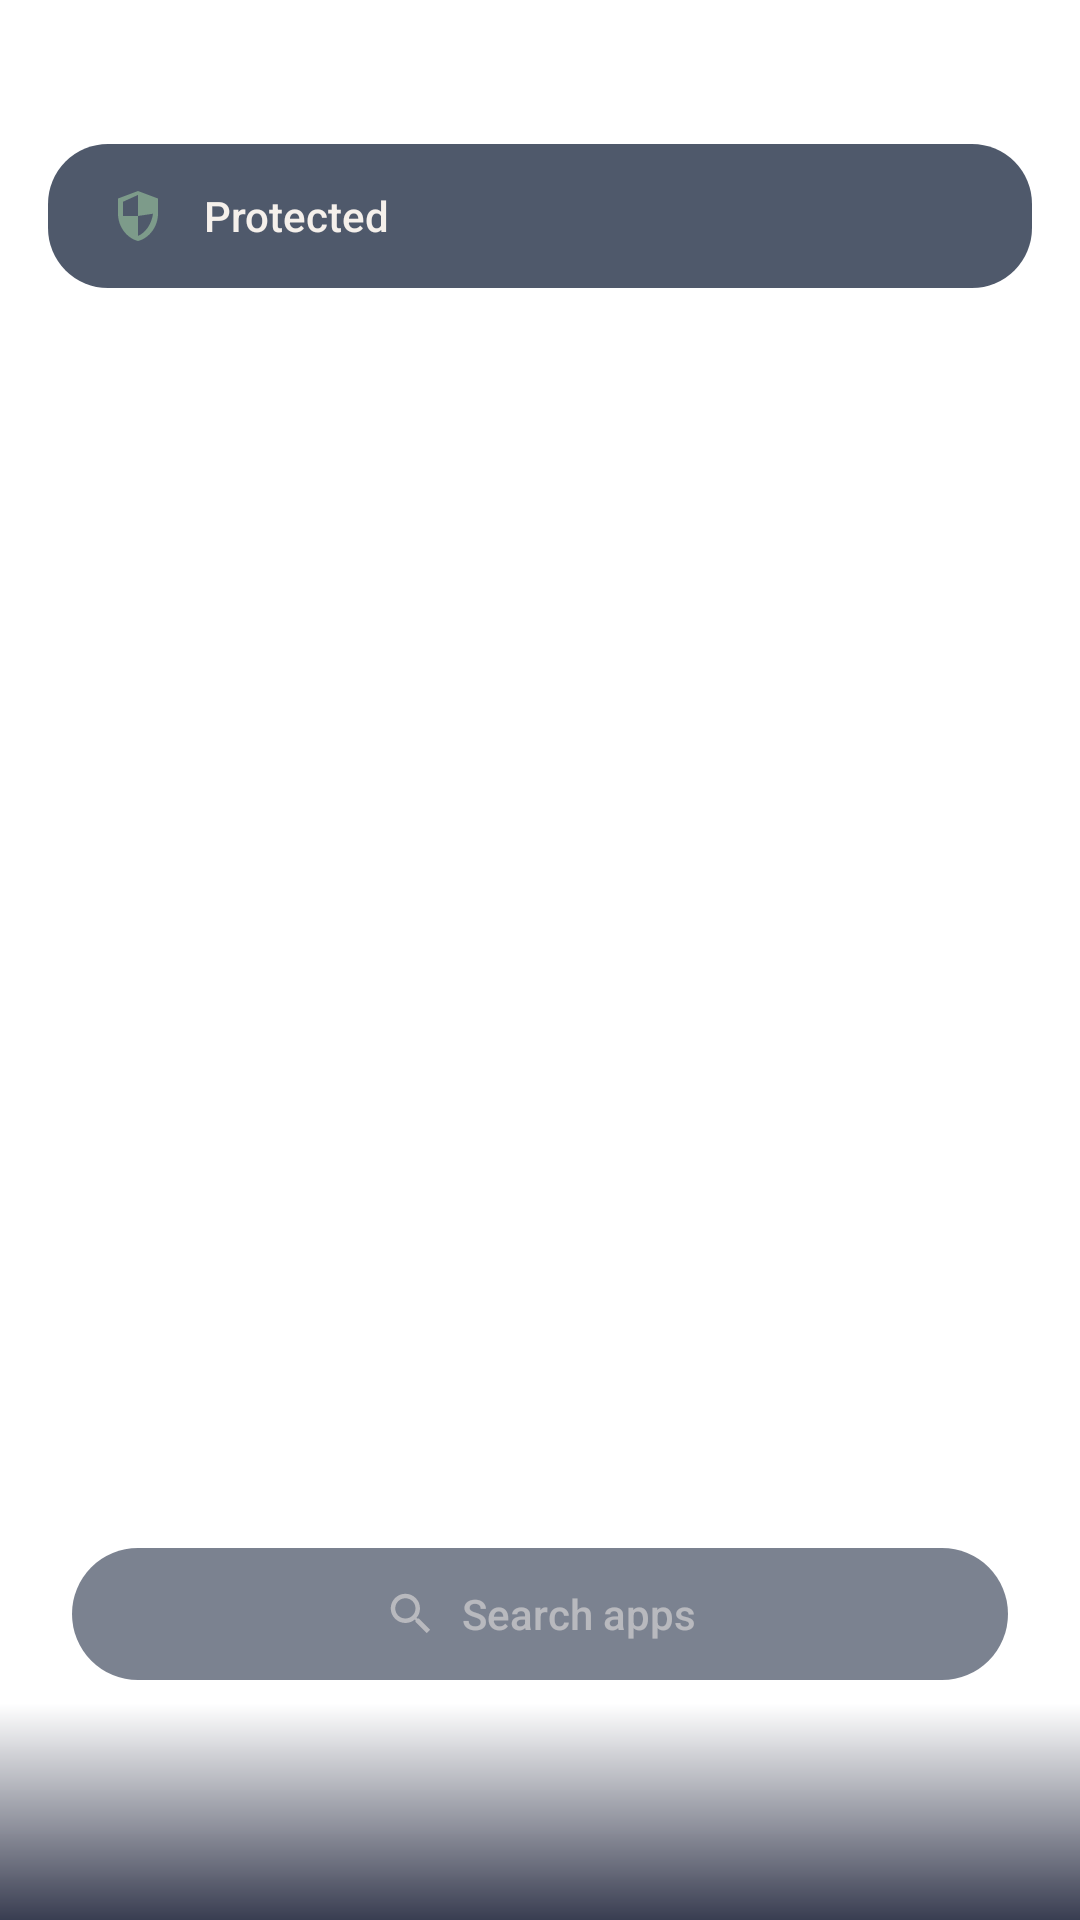

Named icons in this screenshot (1080w x 1920h) and their bounding boxes, (x1, y1, x2, y2):
Privacy shield: (118, 191, 158, 241)
